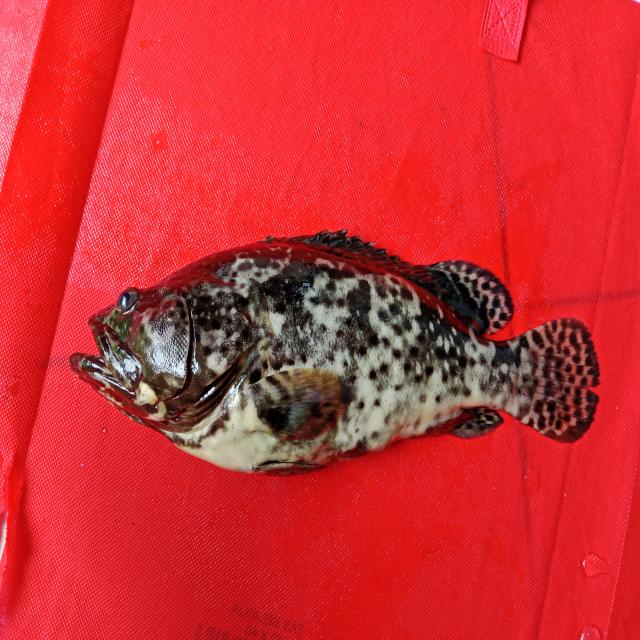ikan: (62, 217, 608, 483)
